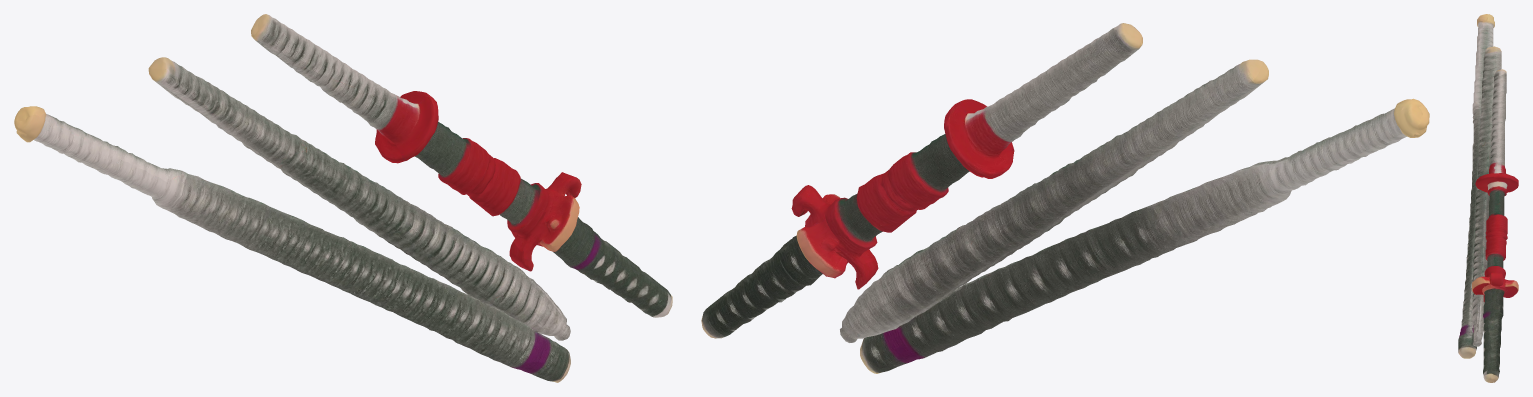
File: zoro-swords.opt.glb
3 views of the same model, side by side, from view 1: azimuth 30°, elevation 25°; view 2: azimuth 150°, elevation 25°; view 3: azimuth 270°, elevation 25° (orthographic). The views are drawn at different scales.
Bounding box in the file's own units: 1.91 × 1.12 × 0.2778.
1 material, 1 textured.
